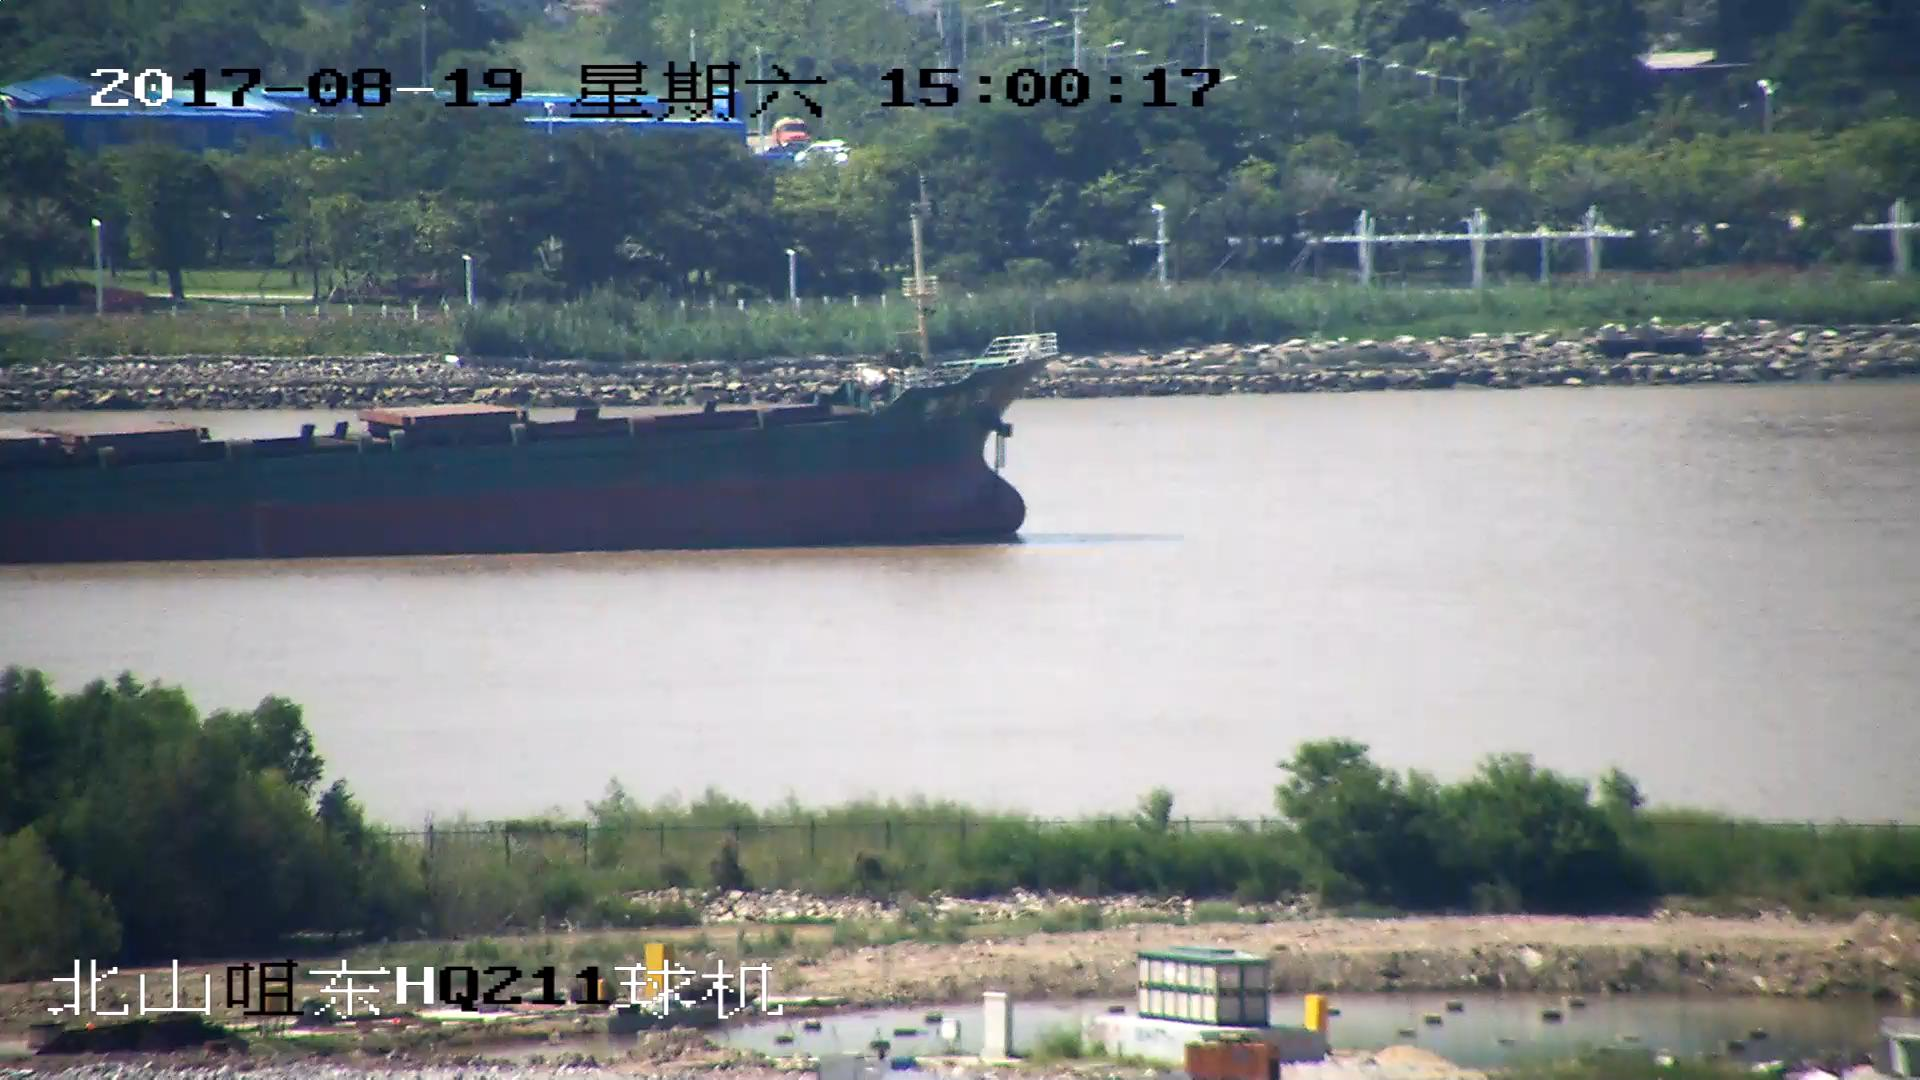general cargo ship: (1, 341, 1049, 558)
